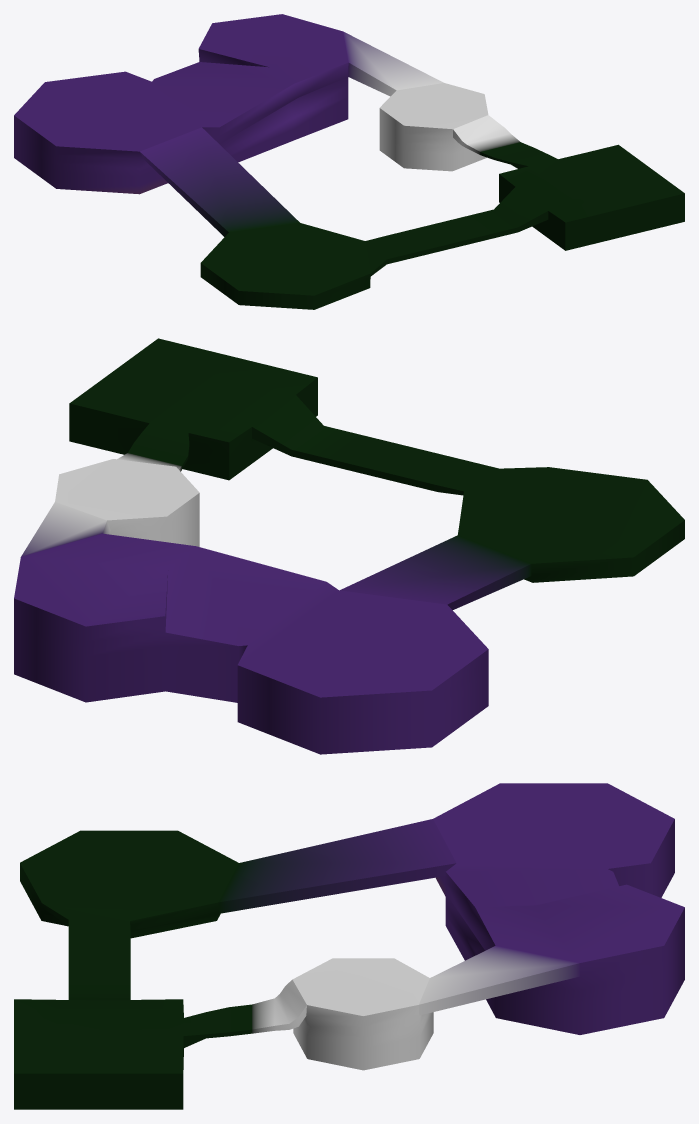
The model's file is LevelV1.FBX.
3 views of the same model, one above another, from view 1: azimuth 30°, elevation 25°; view 2: azimuth 150°, elevation 25°; view 3: azimuth 270°, elevation 25° (orthographic). The views are drawn at different scales.
Parts seen in each view (by area): view 1: Box002; view 2: Box002; view 3: Box002.
Boxes of the visible parts, x1=… form: Box002: x1=14, y1=14, x2=684, y2=309; Box002: x1=14, y1=338, x2=684, y2=754; Box002: x1=14, y1=783, x2=684, y2=1109.
Bounding box in the file's own units: 323 × 40.71 × 336.
